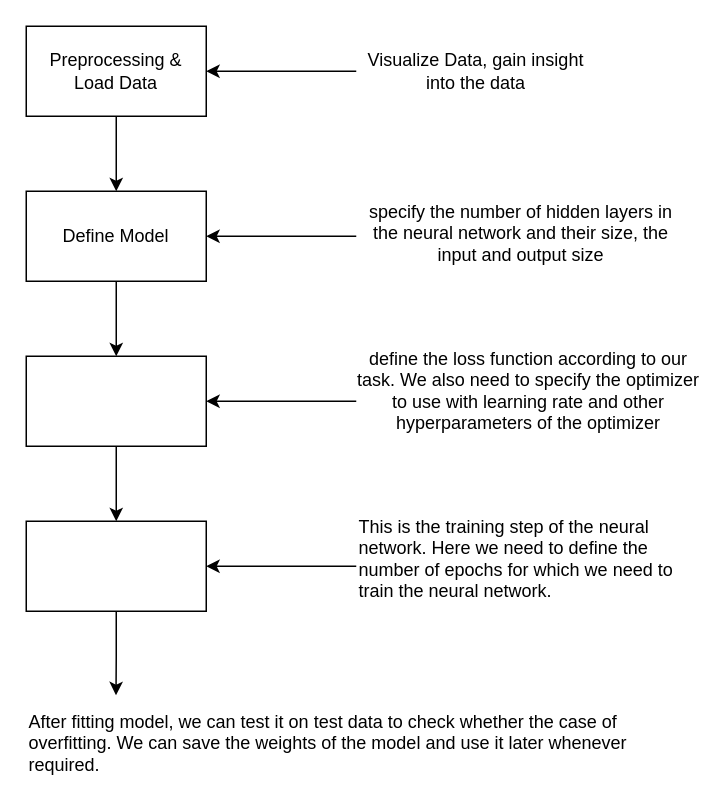
The diagram is 728 pixels wide and 803 high, and some of its shapes have lost their labels. The centre of each missing label's shape, as x and y in pixels:
"Fit Model" belongs at pixel 115 565.
"Loss & Optimizer" belongs at pixel 115 400.
